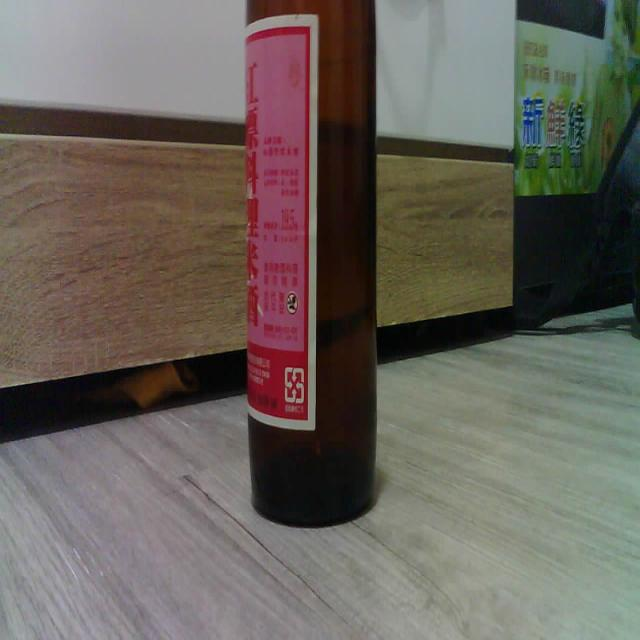bottle: (242, 0, 376, 524)
